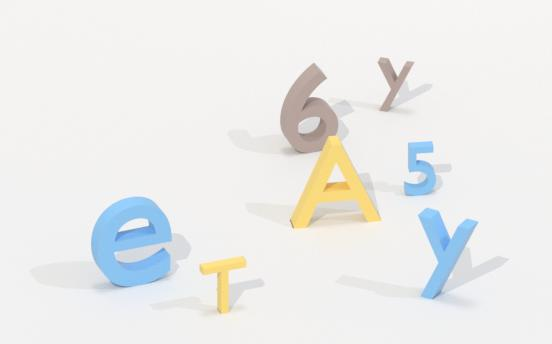5: (402, 138, 440, 199)
6: (279, 59, 340, 153)
A-hoa: (287, 132, 384, 235)
Y: (413, 204, 480, 307), (376, 55, 415, 118)
e: (87, 192, 175, 287)
t-hoa: (194, 253, 254, 318)
